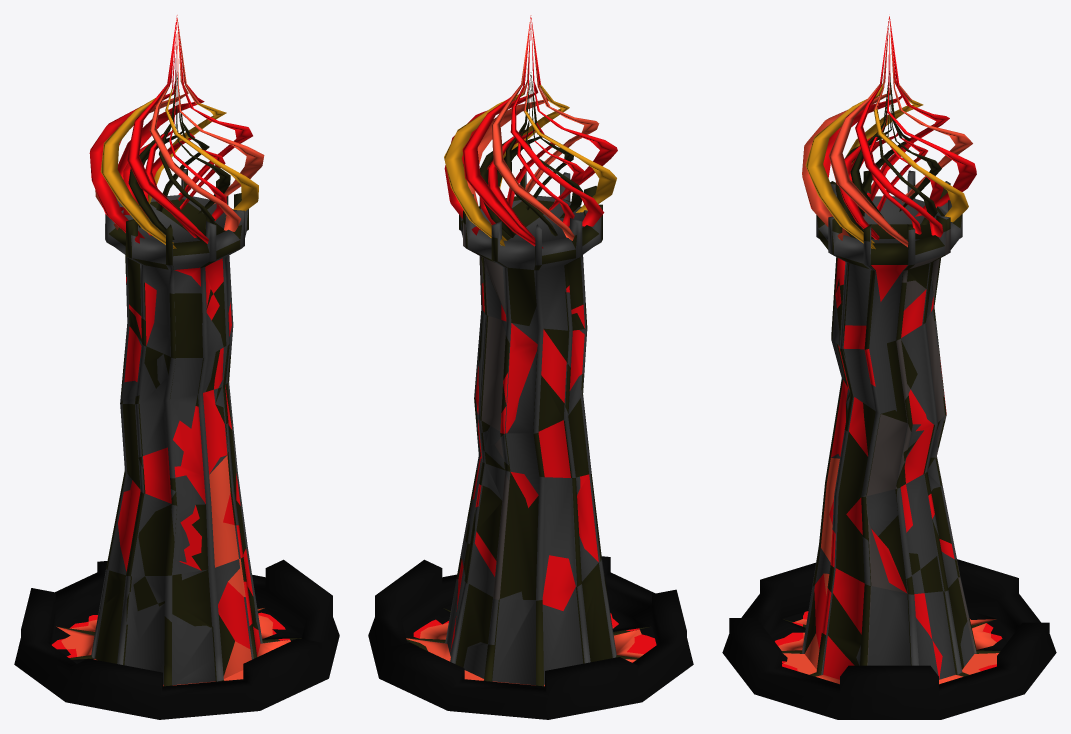
The model's file is Faer tower 4 v1.fbx.
3 views of the same model, side by side, from view 1: azimuth 30°, elevation 25°; view 2: azimuth 150°, elevation 25°; view 3: azimuth 270°, elevation 25° (orthographic).
Parts seen in each view (by area): view 1: Faer tower 4; view 2: Faer tower 4; view 3: Faer tower 4.
Part boxes in pixels (left/top/right/bottom): Faer tower 4: left=14, top=15, right=339, bottom=719; Faer tower 4: left=368, top=15, right=693, bottom=719; Faer tower 4: left=722, top=16, right=1056, bottom=719.
Size of the model in its own units: 1.99 by 2.09 by 4.41.
